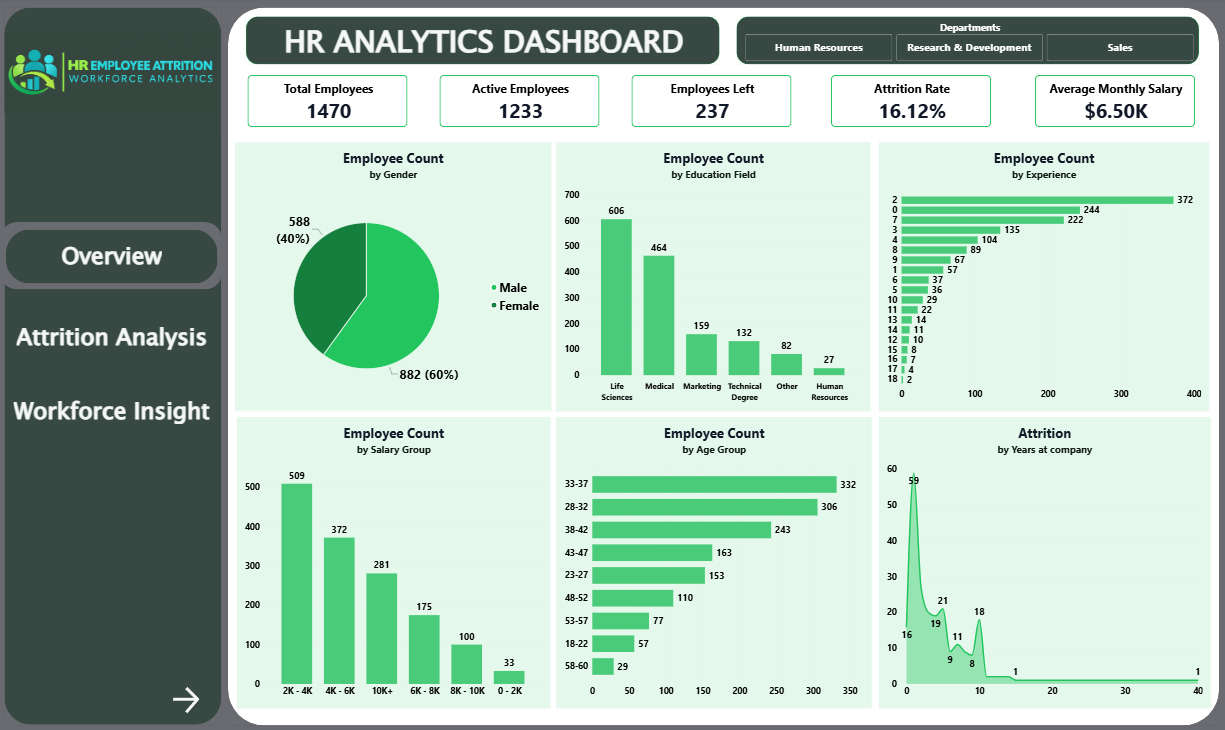

This screenshot's page, from the dashboard's own definition file:
{"tool":"powerbi","page":{"name":"Overview","canvas":[2500,1500],"ordinal":0},"visuals":[{"type":"shape","box":[10,21.7,441.7,1461.7],"z":0},{"type":"shape","box":[463.3,20,2020,1463.3],"z":1000},{"type":"pieChart","title":"Employee Count","fields":{"Category":["WA_Fn-UseC_-HR-Employee-Attrition.Gender"],"Y":["CountNonNull(HR-Employee.EmployeeNumber)"]},"box":[480,296.7,643.3,546.7],"z":2000},{"type":"barChart","title":"Employee Count","fields":{"Y":["CountNonNull(HR-Employee.EmployeeCount)"],"Category":["HR-Employee.YearsInCurrentRole"]},"box":[1790,297.1,672.9,547.1],"z":3000},{"type":"barChart","title":"Employee Count","fields":{"Category":["HR-Employee-Attrition.Age Group"],"Y":["CountNonNull(HR-Employee-Attrition.EmployeeCount)"]},"box":[1134.2,856,642.9,592.9],"z":4000},{"type":"cardVisual","fields":{"Data":["HR-Employee.Total_Employees"]},"box":[503.3,160,326.7,106.7],"z":5000},{"type":"columnChart","title":"Employee Count","fields":{"Category":["HR.EducationField"],"Y":["CountNonNull(HR.EmployeeCount)"]},"box":[1134.3,297.1,640,547.1],"z":6000},{"type":"areaChart","title":"Attrition","fields":{"Y":["HR.Employees Left"],"Category":["HR.YearsAtCompany"]},"box":[1790,857.1,675.7,592.9],"z":7000},{"type":"shape","box":[502.5,40,965,97.5],"z":8000},{"type":"actionButton","box":[523.3,46.7,926.7,83.3],"z":9000},{"type":"shape","box":[1502.5,40,942.5,97.5],"z":10000},{"type":"advancedSlicerVisual","title":"Departments","fields":{"Values":["HR.Department"]},"box":[1520,47.5,915,82.5],"z":11000},{"type":"cardVisual","fields":{"Data":["HR.Attrition Rate"]},"box":[1693.3,160,326.7,106.7],"z":12000},{"type":"cardVisual","fields":{"Data":["HR.Employees Left"]},"box":[1286.7,160,326.7,106.7],"z":13000},{"type":"cardVisual","fields":{"Data":["HR.Active_Employees"]},"box":[896.7,160,326.7,106.7],"z":14000},{"type":"cardVisual","fields":{"Data":["HR.Average Monthly Salary"]},"box":[2110,160,326.7,106.7],"z":15000},{"type":"columnChart","title":"Employee Count","fields":{"Y":["CountNonNull(HR.EmployeeCount)"],"Category":["HR.Salary Group"]},"box":[483,856,638.9,593.1],"z":16000},{"type":"shape","box":[0,460,452.5,137.6],"z":17000},{"type":"actionButton","box":[11.7,473.3,431.1,110.1],"z":18000},{"type":"actionButton","box":[13.3,640,431.1,110.1],"z":19000},{"type":"image","box":[10,21.7,431.7,266.7],"z":20000},{"type":"actionButton","box":[13.3,790,431.1,110.1],"z":21000},{"type":"actionButton","box":[346.7,1393.3,64.8,77.1],"z":22000}]}

Visuals, with their boxes in screenshot pixels (x1, y1, x2, y2), scaled from the page's 2500x1500 canvas onto the 1225x730 screenshot:
shape: locate(5, 11, 221, 722)
shape: locate(227, 10, 1217, 722)
"Employee Count" pieChart: locate(235, 144, 550, 410)
"Employee Count" barChart: locate(877, 145, 1207, 411)
"Employee Count" barChart: locate(556, 417, 871, 705)
cardVisual - HR-Employee.Total_Employees: locate(247, 78, 407, 130)
"Employee Count" columnChart: locate(556, 145, 869, 411)
"Attrition" areaChart: locate(877, 417, 1208, 706)
shape: locate(246, 19, 719, 67)
actionButton: locate(256, 23, 710, 63)
shape: locate(736, 19, 1198, 67)
"Departments" advancedSlicerVisual: locate(745, 23, 1193, 63)
cardVisual - HR.Attrition Rate: locate(830, 78, 990, 130)
cardVisual - HR.Employees Left: locate(630, 78, 791, 130)
cardVisual - HR.Active_Employees: locate(439, 78, 599, 130)
cardVisual - HR.Average Monthly Salary: locate(1034, 78, 1194, 130)
"Employee Count" columnChart: locate(237, 417, 550, 705)
shape: locate(0, 224, 222, 291)
actionButton: locate(6, 230, 217, 284)
actionButton: locate(7, 311, 218, 365)
image: locate(5, 11, 216, 140)
actionButton: locate(7, 384, 218, 438)
actionButton: locate(170, 678, 202, 716)
